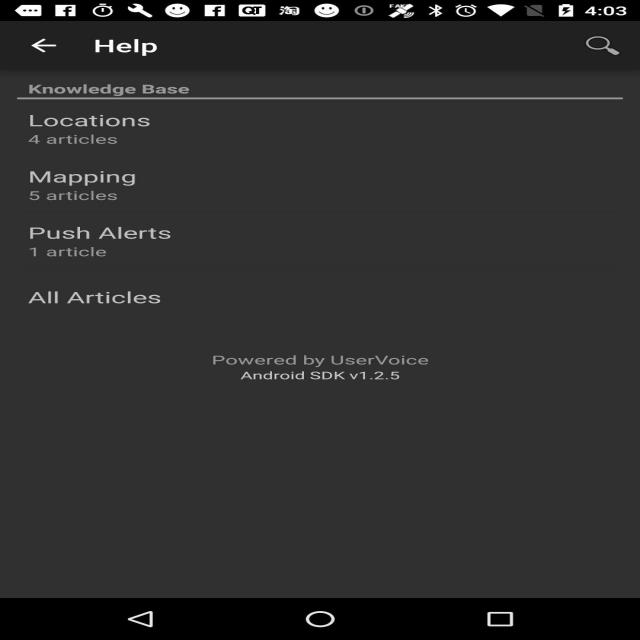button: (285, 591, 362, 639), (459, 605, 569, 636), (112, 596, 174, 640), (8, 36, 84, 62)
icon: (12, 1, 640, 23), (561, 26, 638, 60)
text: (190, 344, 458, 392), (11, 221, 198, 265), (11, 169, 172, 207), (12, 115, 172, 148), (25, 79, 207, 102), (77, 31, 185, 67), (28, 289, 183, 313)
